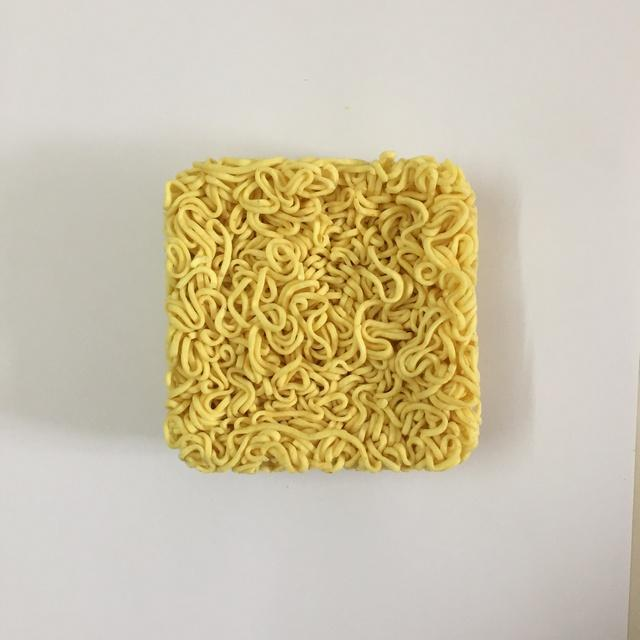noodles: (148, 147, 496, 486)
